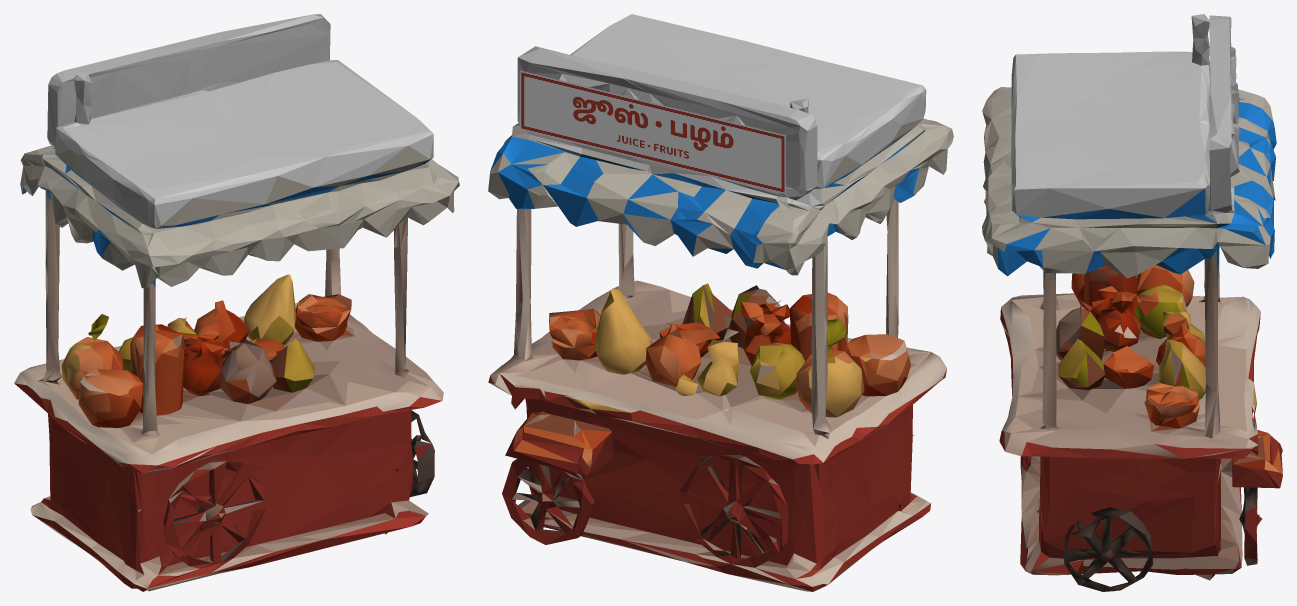
Rendered from fruit_cart_c.glb.
3 views of the same model, side by side, from view 1: azimuth 30°, elevation 25°; view 2: azimuth 150°, elevation 25°; view 3: azimuth 270°, elevation 25° (orthographic). The views are drawn at different scales.
Parts seen in each view (by area): view 1: cart; view 2: cart, sign; view 3: cart.
Part boxes in pixels (x1=…): cart: x1=14, y1=14, x2=459, y2=591; cart: x1=488, y1=14, x2=953, y2=591; sign: x1=519, y1=70, x2=785, y2=194; cart: x1=982, y1=14, x2=1282, y2=591.
Size of the model in its own units: 1.74 by 2.26 by 1.37.
Materials: 2 (1 with a texture image).
